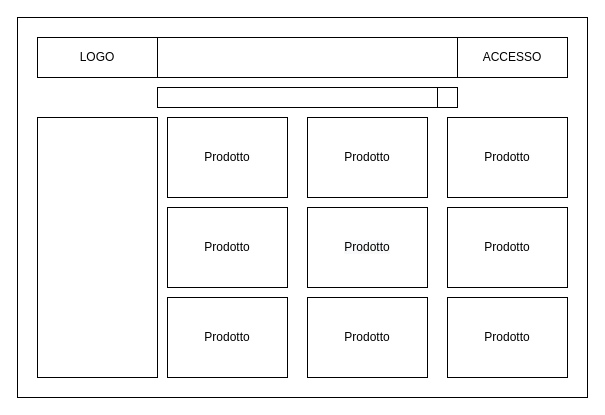
Image size: 605x415. Some labels were removed from this diagram. Here are the shapes that lost their labels. From the top down, the centre of each, then its label:
[307,57]: MENU
[297,97]: Ricerca
[97,247]: FILTRI
